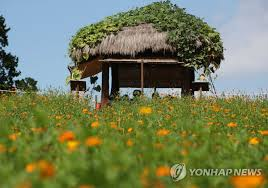flower: (5, 95, 268, 187)
